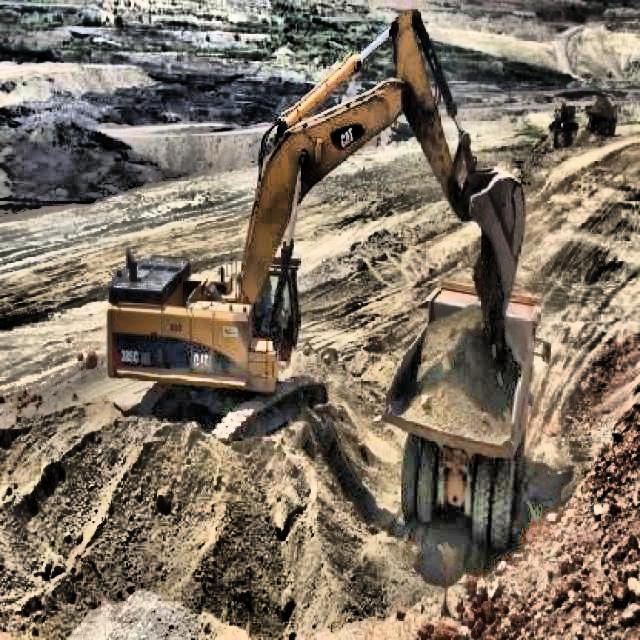dump_truck: (386, 267, 543, 558), (584, 102, 620, 136)
excavator: (100, 1, 528, 452), (550, 100, 578, 145)
